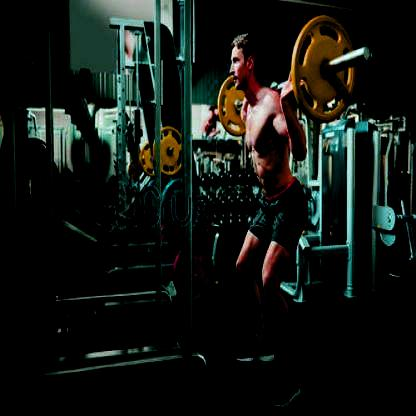Barbell: (362, 42, 375, 65)
